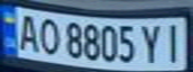0: (100, 21, 121, 63)
5: (115, 21, 139, 64)
8: (78, 20, 103, 61), (60, 19, 84, 60)
A: (12, 11, 42, 52)
I: (160, 20, 187, 63)
O: (33, 16, 63, 56)
Y: (136, 20, 166, 64)
